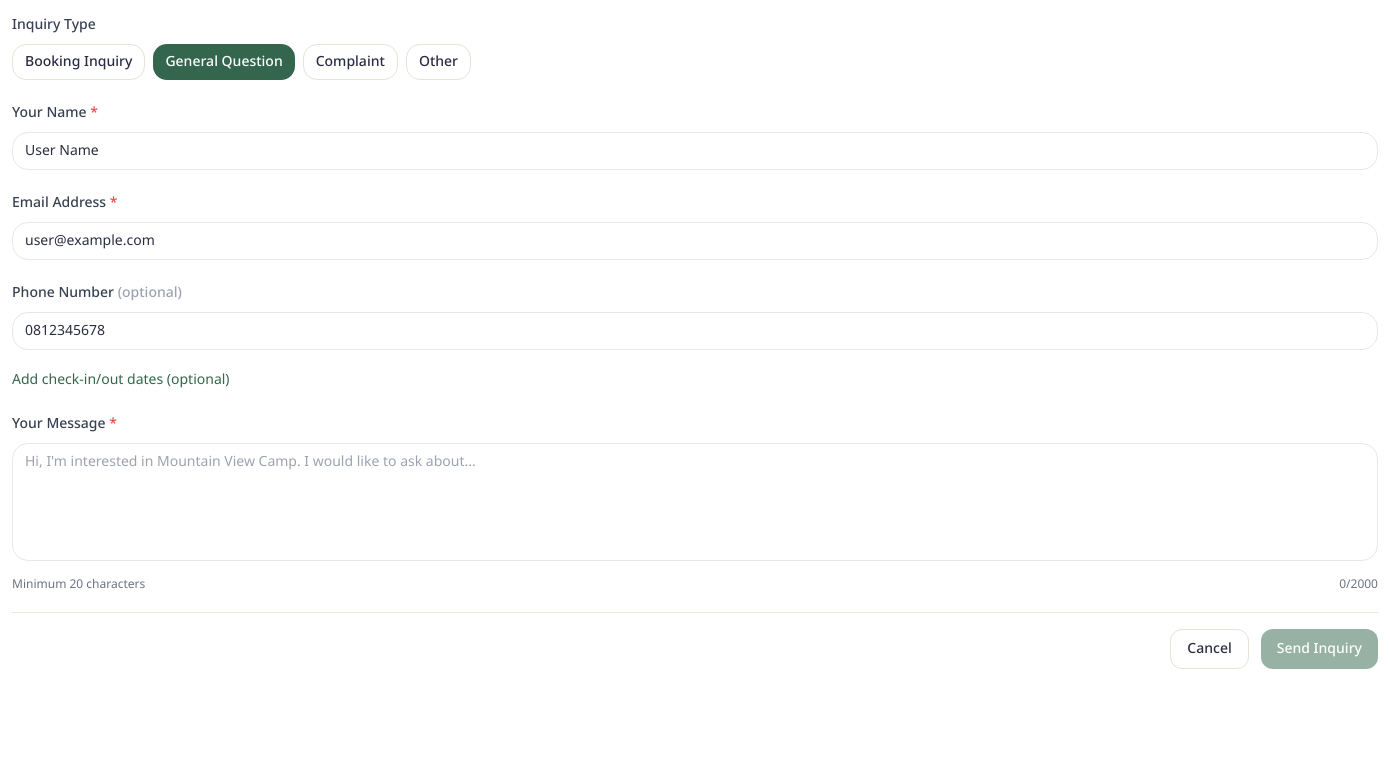
Scenario: InquiryForm - Pre-fill for Logged-in Users › Field editability › should validate edited phone field format
The width and height of the screenshot is (1390, 780).
# Edit phone to invalid Thai format
Replace the text in the field labelled "Phone Number (optional)" with "123456" at (695, 331), box [12,312,1378,350]
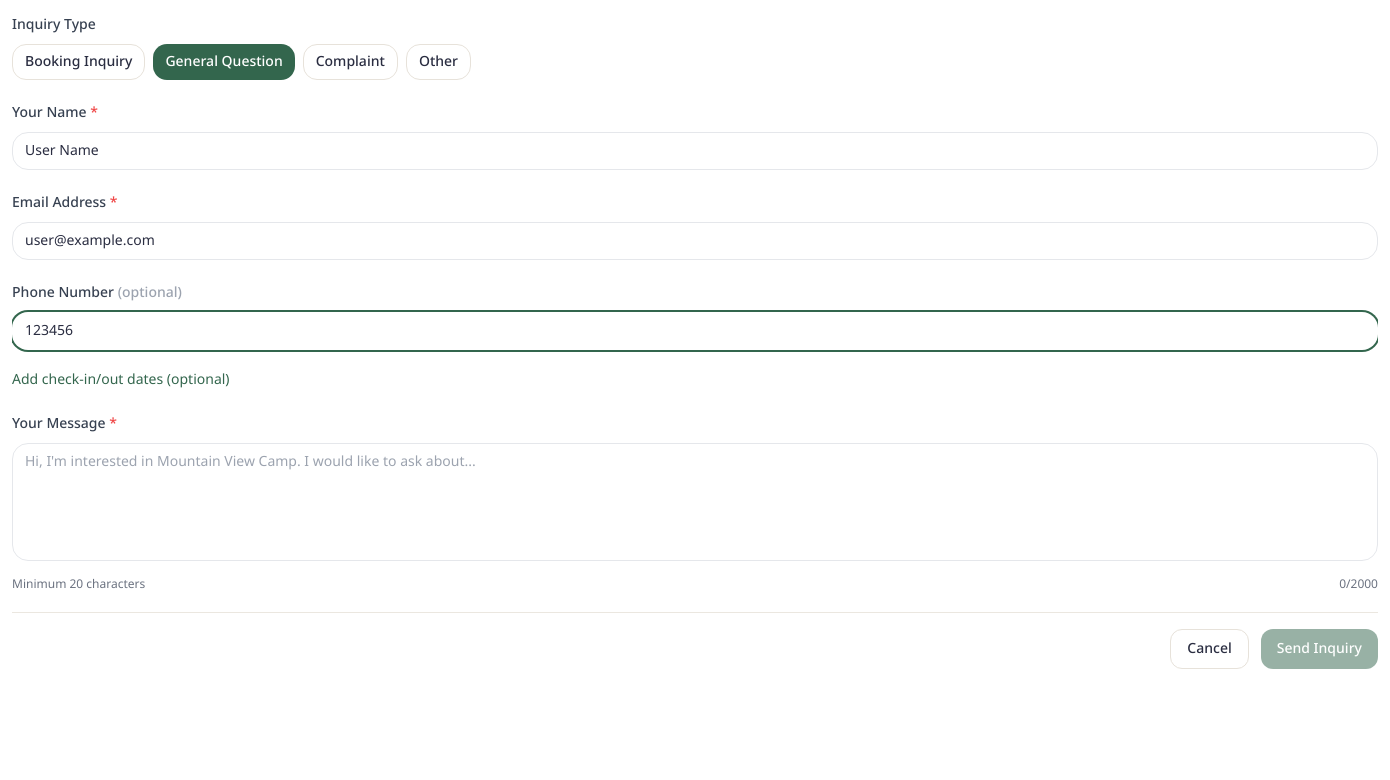
Type "Test message that is long enough to pass validation requirements" into the text box labelled "Your Message *" at (695, 502), box [12,443,1378,561]
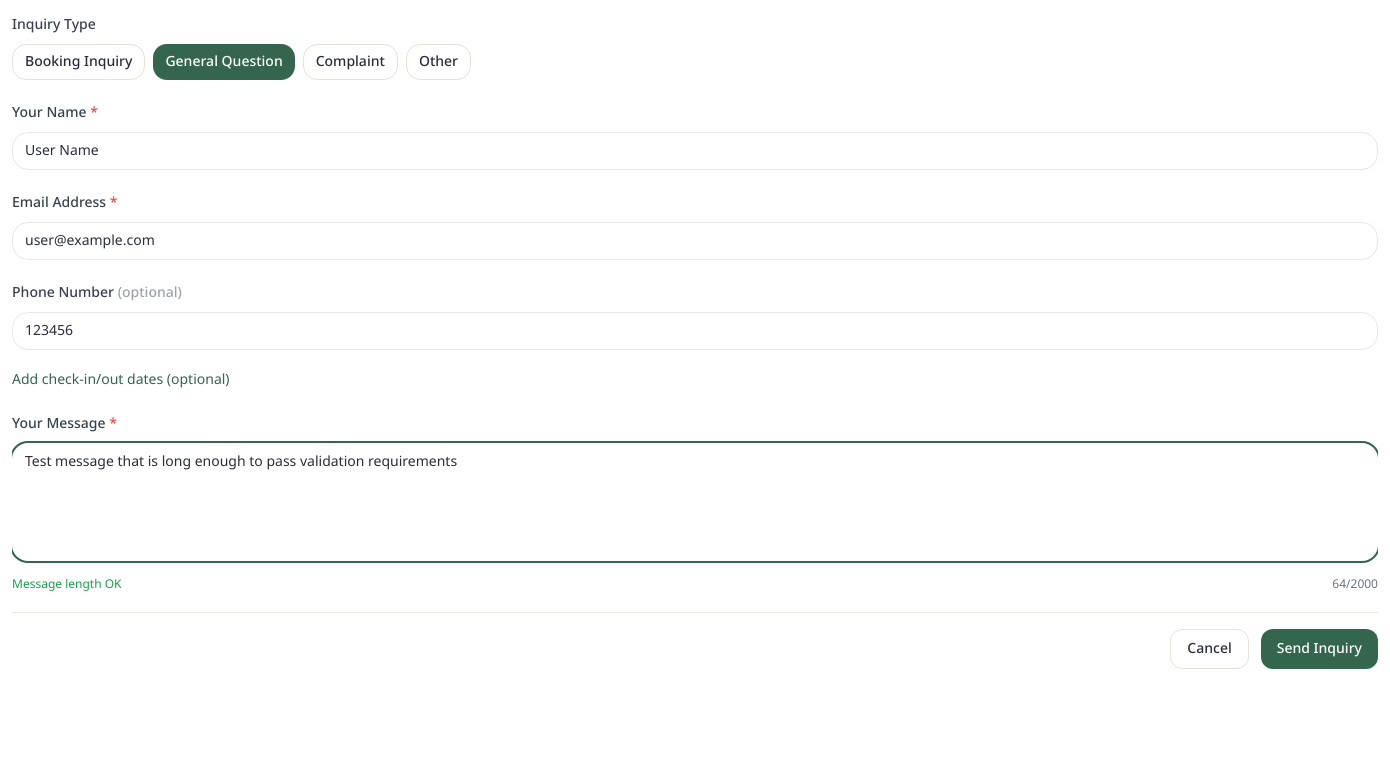
Click the button "Send Inquiry" at (1319, 649), box [1261,629,1378,669]
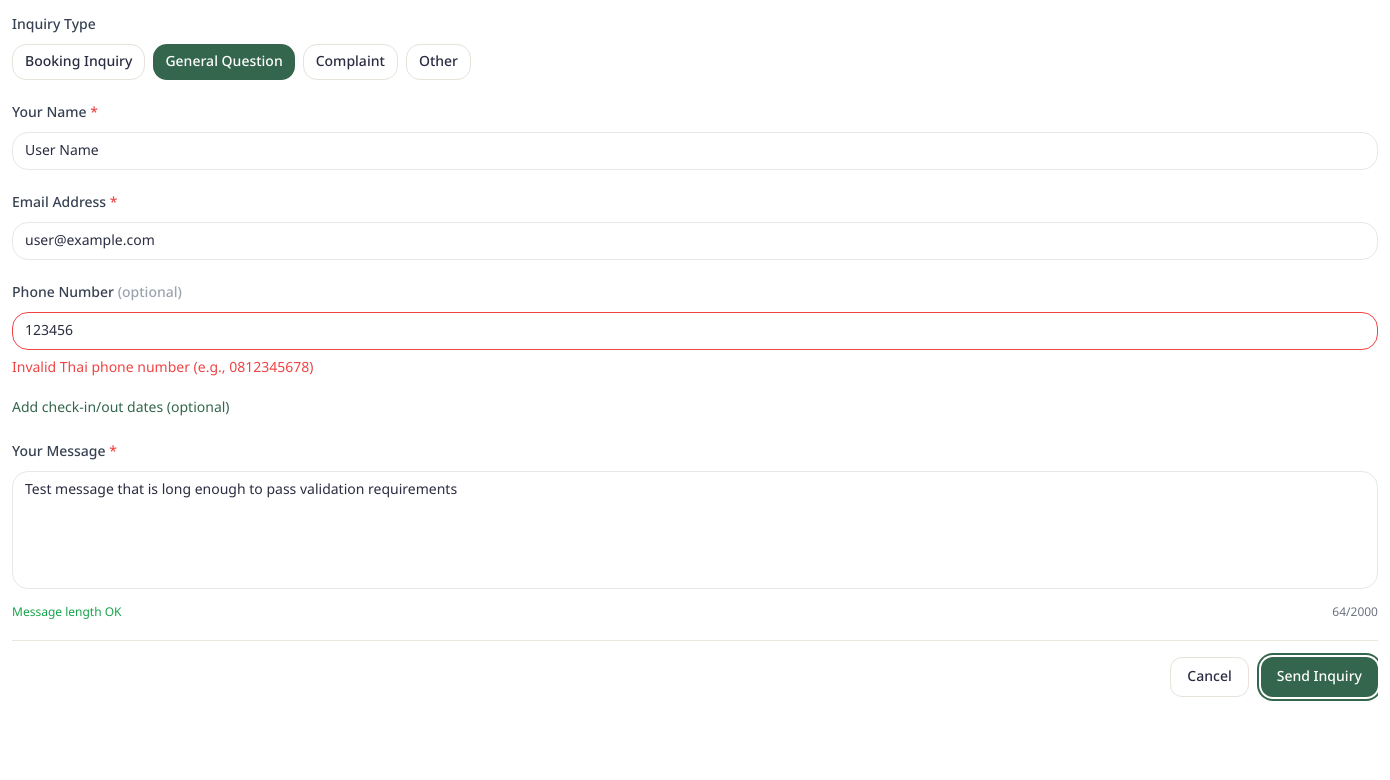
Now the text "Invalid Thai phone number (e.g., 0812345678)" is shown, box [12,357,314,378]
